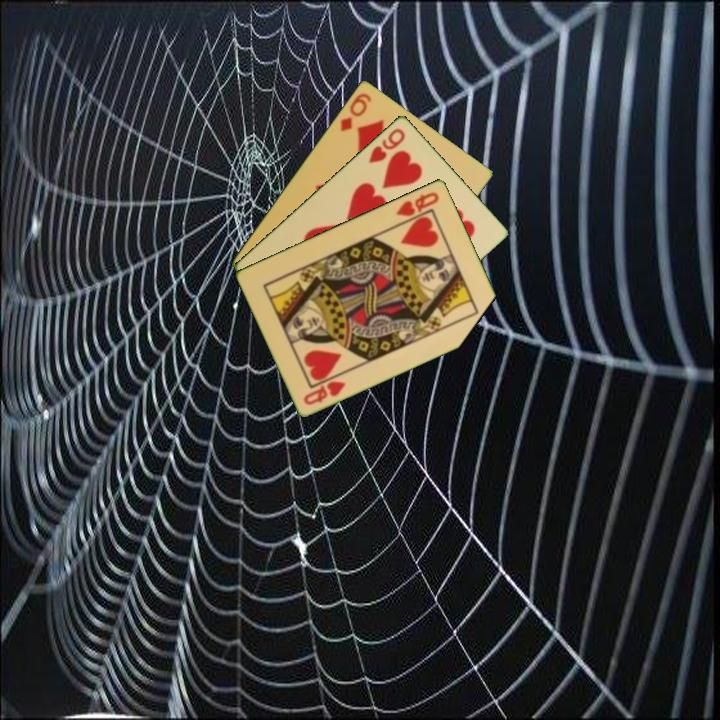6d: (337, 89, 374, 134)
9h: (365, 124, 408, 166)
Qh: (392, 188, 442, 219), (300, 377, 349, 408)
